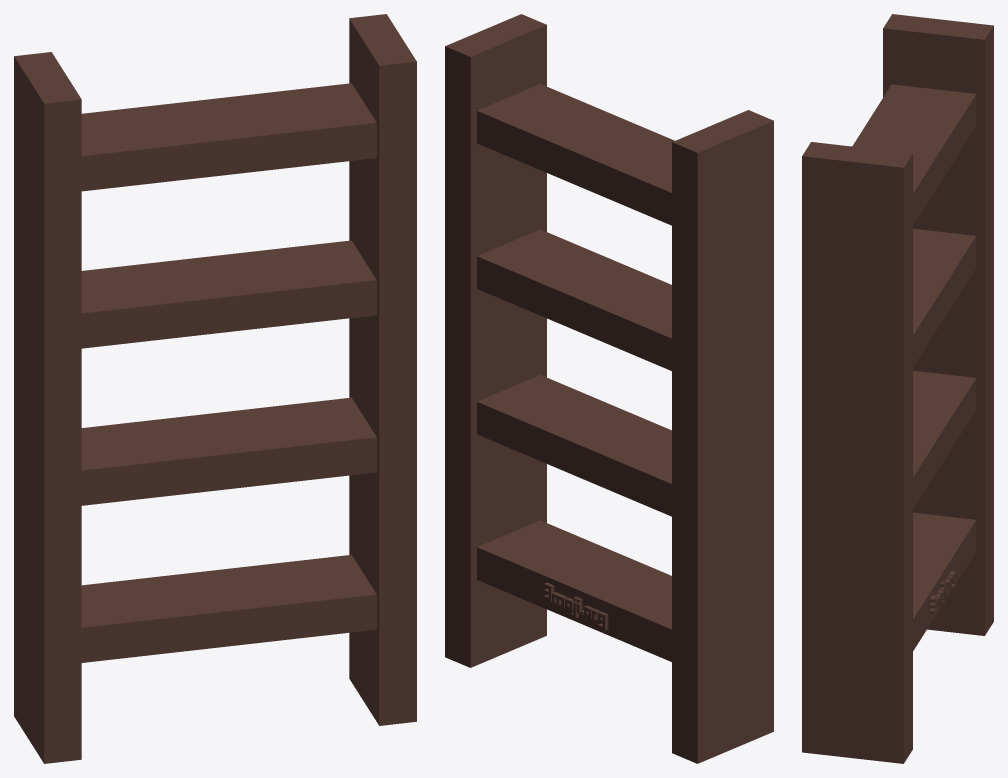
Rendered from ladder.fbx.
The picture shows the model from 3 angles, left to right: view 1: azimuth 30°, elevation 25°; view 2: azimuth 150°, elevation 25°; view 3: azimuth 270°, elevation 25°; orthographic projection. The views are drawn at different scales.
Parts seen in each view (by area): view 1: Cube.1003; view 2: Cube.1003; view 3: Cube.1003.
Part boxes in pixels (box(x1,y1,x2,y2)): Cube.1003: box(14, 14, 416, 763); Cube.1003: box(445, 14, 773, 763); Cube.1003: box(802, 14, 993, 763).
Bounding box in the file's own units: 128 × 231 × 67.36.
1 material, 1 textured.
